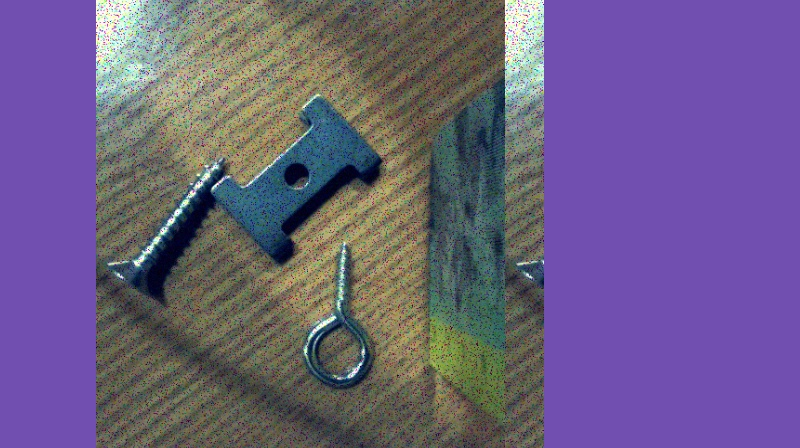O001: (299, 239, 378, 391)
O002: (207, 90, 385, 266)
S001: (105, 153, 233, 300)
